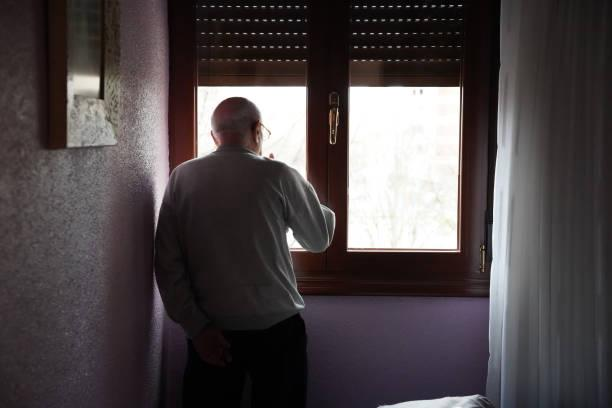Human: (147, 82, 352, 408)
